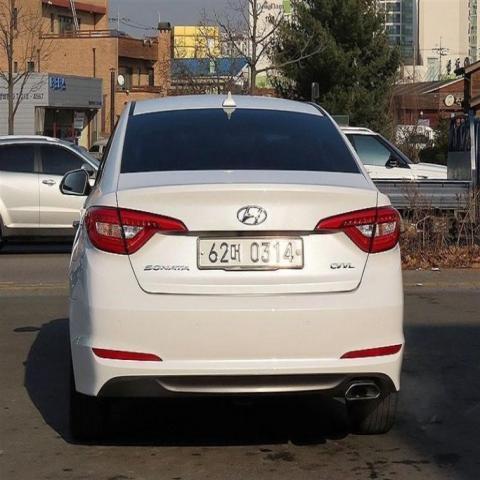LP: (189, 234, 315, 274)
